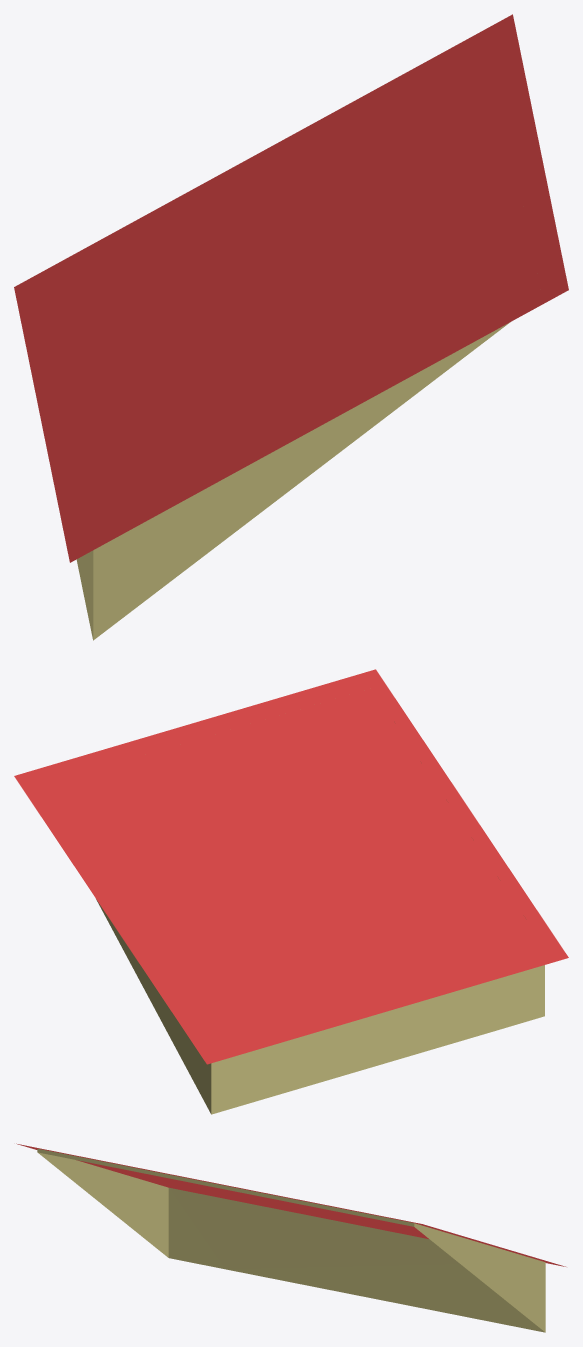
3 renders of one model, top to bottom at view 1: azimuth 30°, elevation 25°; view 2: azimuth 150°, elevation 25°; view 3: azimuth 270°, elevation 25°, orthographic. The views are drawn at different scales.
Bounding box in the file's own units: 7.19 × 7.92 × 3.74.
